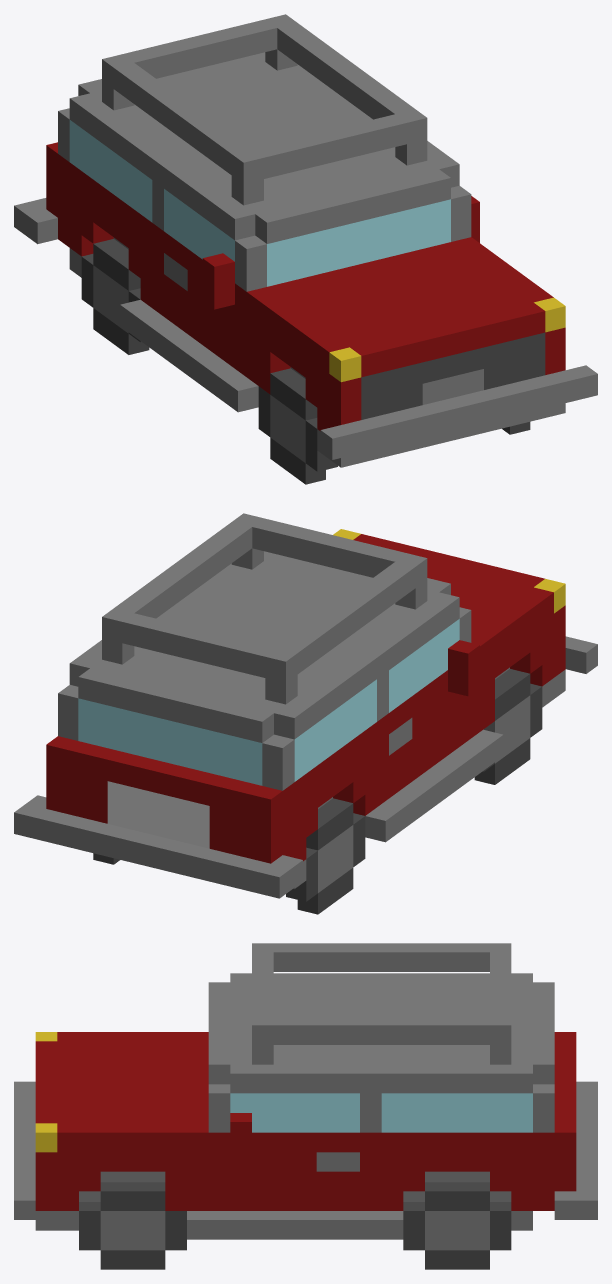
Rendered from start_end-31.obj.
The picture shows the model from 3 angles, top to bottom: view 1: azimuth 30°, elevation 25°; view 2: azimuth 150°, elevation 25°; view 3: azimuth 270°, elevation 25°; orthographic projection. The views are drawn at different scales.
Size of the model in its own units: 1.3 by 1.2 by 2.7.
Materials: 1 (1 with a texture image).
